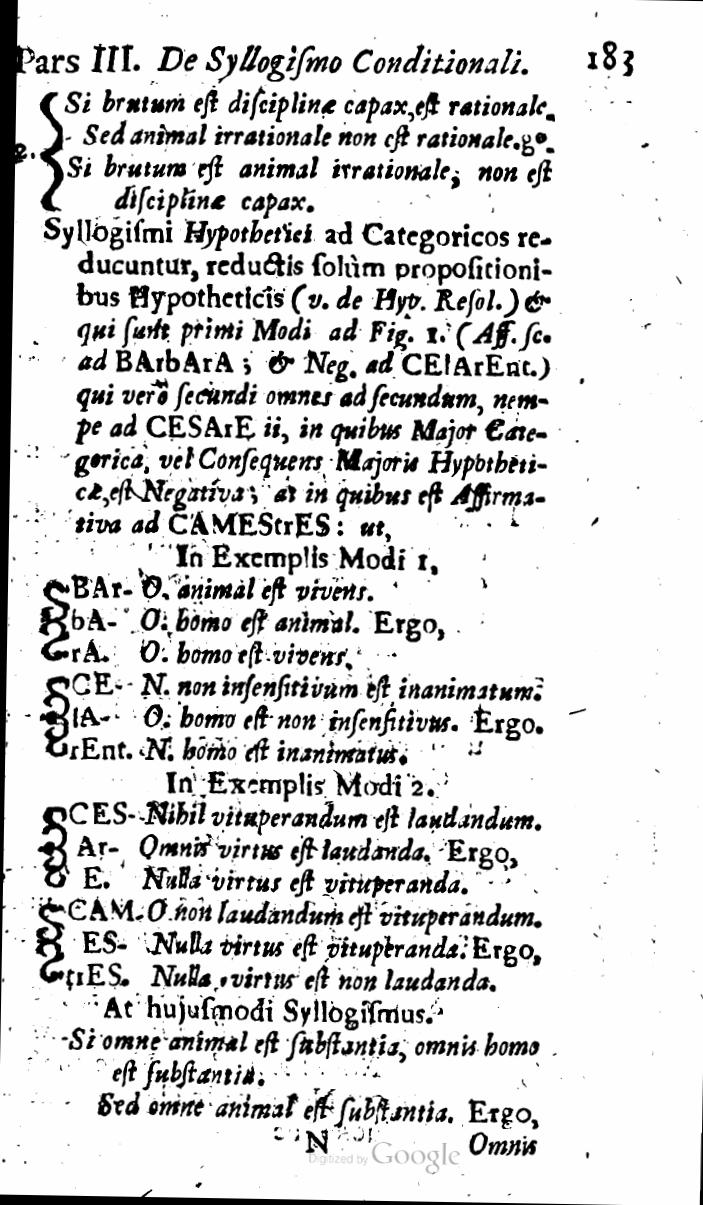catchword: (469, 1128, 542, 1161)
full_p: (39, 212, 557, 541), (169, 540, 442, 576), (160, 766, 437, 800)
header: (14, 38, 537, 83)
page_num: (581, 34, 638, 81)
signature: (301, 1125, 332, 1159)
text_viz: (33, 798, 560, 996), (28, 572, 548, 767), (18, 84, 562, 214)
top_p: (62, 994, 545, 1131)
